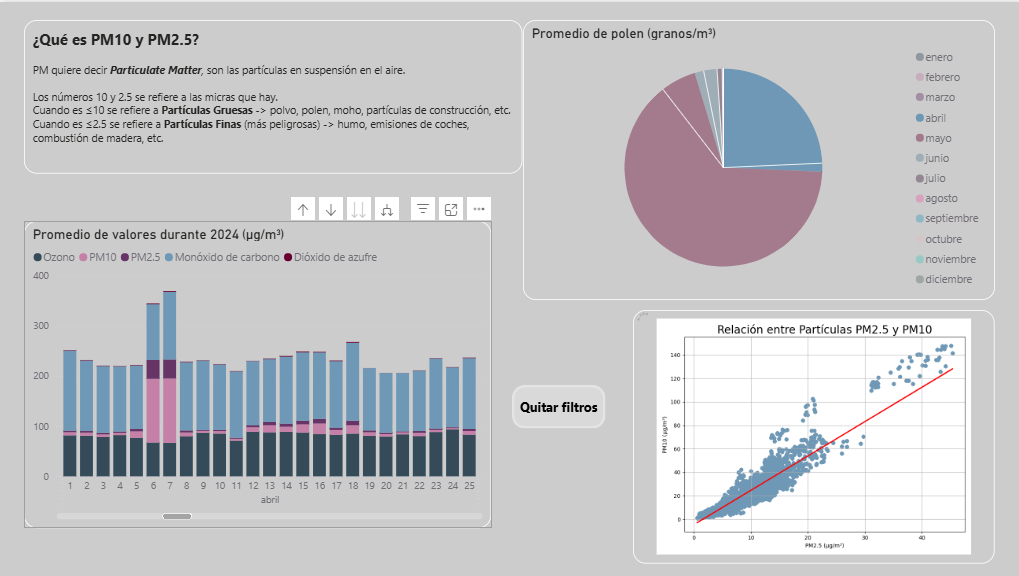

This screenshot's page, from the dashboard's own definition file:
{"tool":"powerbi","page":{"name":"Página 1","canvas":[1280,720],"ordinal":0},"visuals":[{"type":"textbox","box":[30,22.2,623.3,192.2],"z":0},{"type":"columnChart","title":"Promedio de valores durante 2024 (µg/m³)","fields":{"Category":["airevisDatos.fecha.Variación.Jerarquía de fechas.Mes","airevisDatos.fecha.Variación.Jerarquía de fechas.Día","airevisDatos.hora"],"Y":["Avg(airevisDatos.O₃ (µg/m³))","Avg(airevisDatos.PM10 (µg/m³))","Avg(airevisDatos.PM2.5 (µg/m³))","Avg(airevisDatos.CO (µg/m³))","Avg(airevisDatos.SO₂ (µg/m³))"]},"box":[30,273.3,584.4,384.4],"z":1000},{"type":"pieChart","title":"Promedio de polen (granos/m³)","fields":{"Y":["Avg(airevisDatos.Polen Olivos (granos/m³))","Avg(airevisDatos.Polen Hierba (granos/m³))"],"Category":["airevisDatos.fecha.Variación.Jerarquía de fechas.Mes"]},"box":[653.8,22.5,590,350],"z":2000},{"type":"pythonVisual","fields":{"Values":["airevisDatos.hora"]},"box":[791.1,385.6,452.2,316.7],"z":3000},{"type":"actionButton","box":[640,478.9,116.7,54.4],"z":4000}]}

Visuals, with their boxes in screenshot pixels (x1, y1, x2, y2), scaled from the page's 1280x720 canvas onto the 1019x576 screenshot:
textbox: (x1=24, y1=18, x2=520, y2=172)
"Promedio de valores durante 2024 (µg/m³)" columnChart: (x1=24, y1=219, x2=489, y2=526)
"Promedio de polen (granos/m³)" pieChart: (x1=520, y1=18, x2=990, y2=298)
pythonVisual - airevisDatos.hora: (x1=630, y1=308, x2=990, y2=562)
actionButton: (x1=510, y1=383, x2=602, y2=427)
